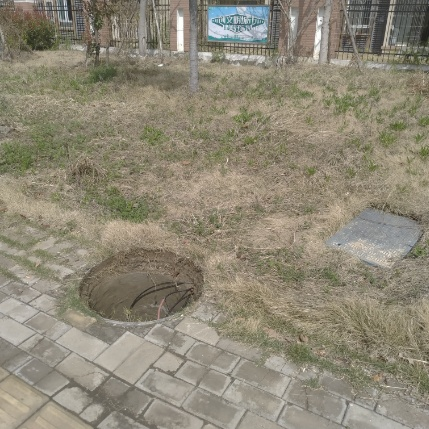lose: (76, 240, 213, 324)
